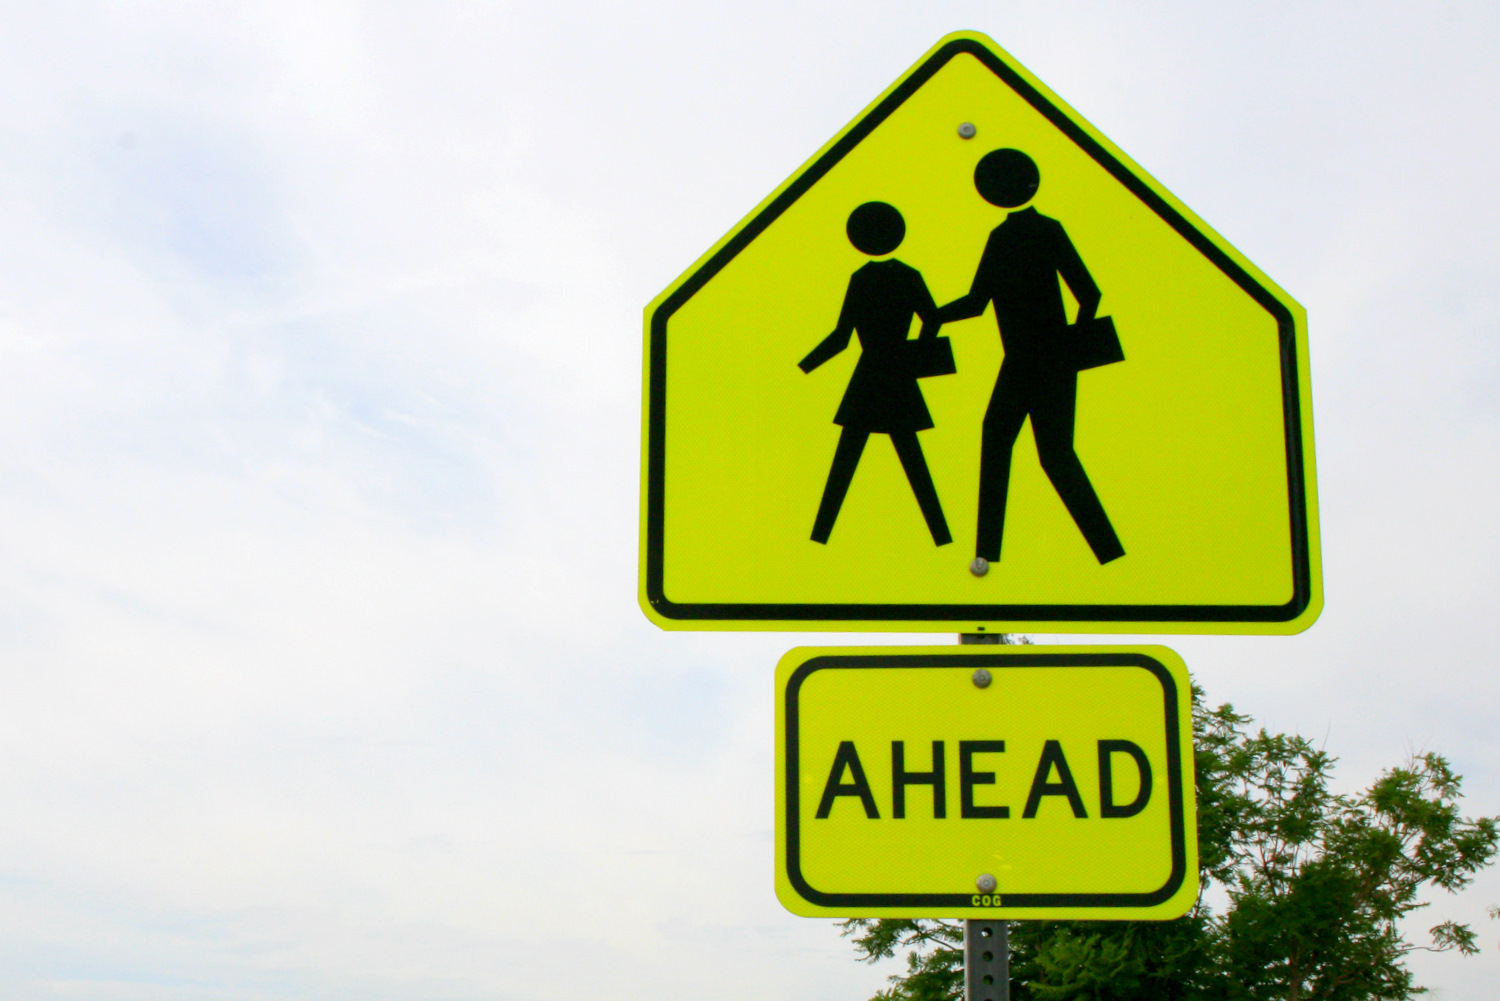slow: (627, 29, 1321, 635)
